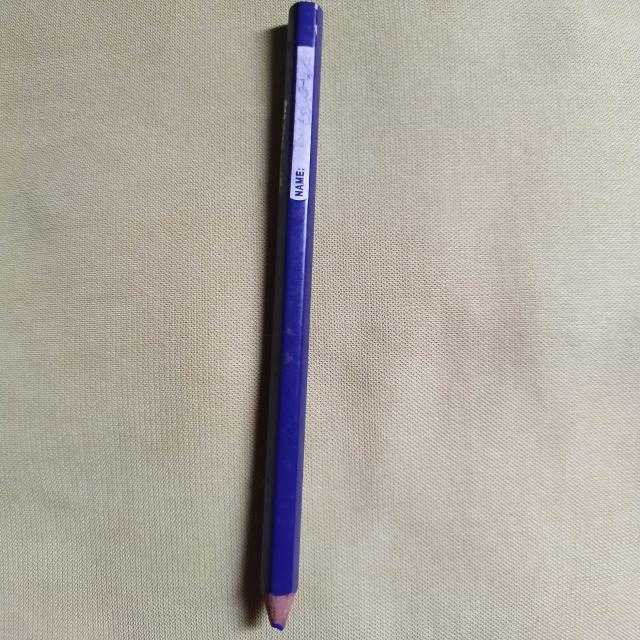pencil: (260, 1, 323, 631)
